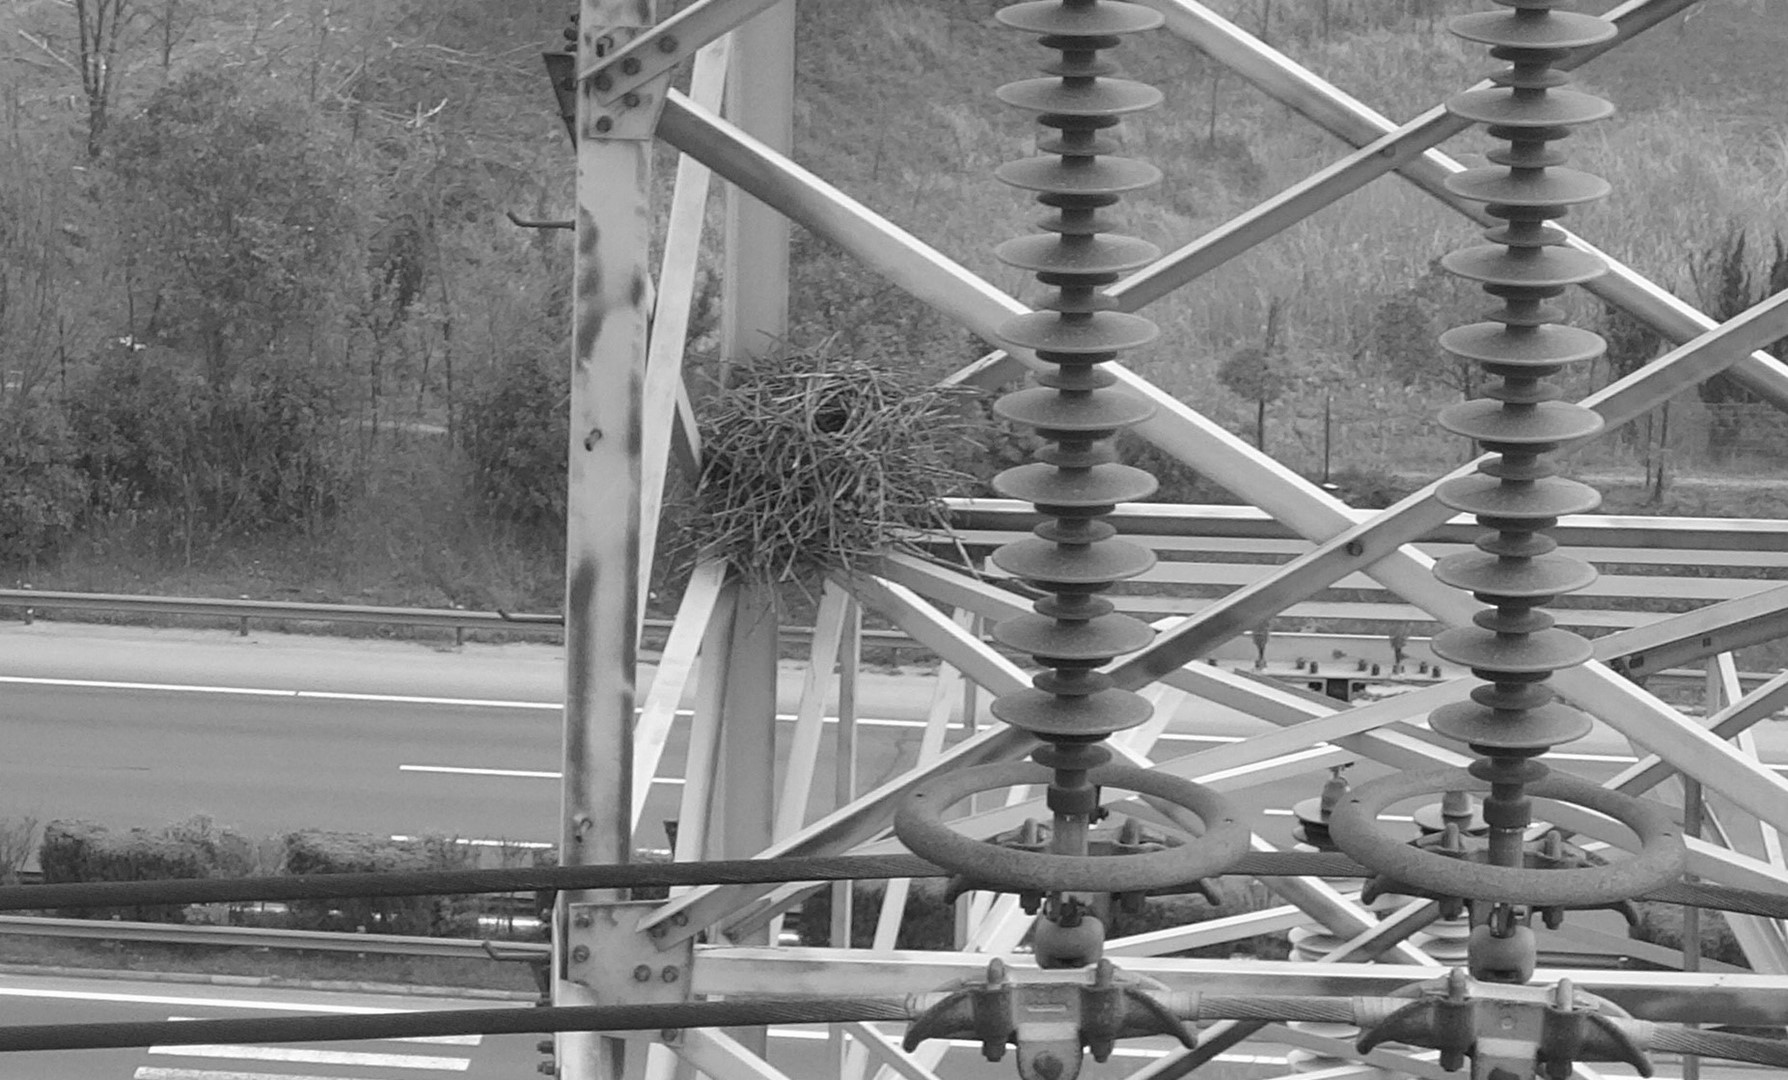niaowo: (679, 328, 934, 594)
